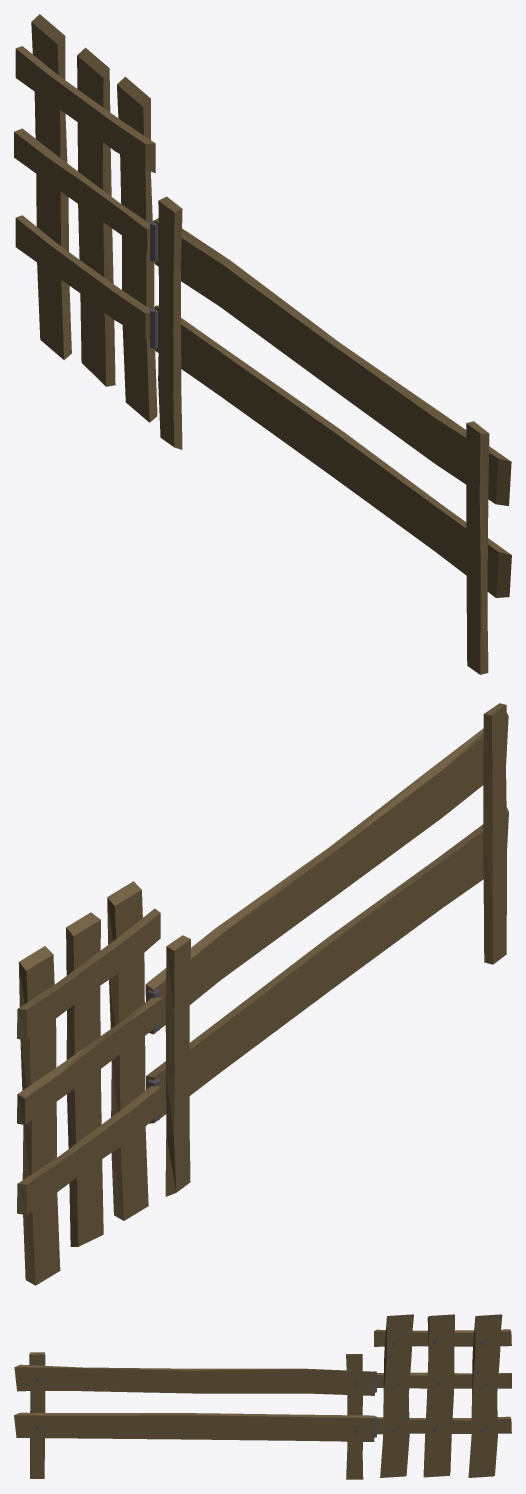
The model's file is Zaun mit Tür.fbx.
The picture shows the model from 3 angles, top to bottom: view 1: azimuth 30°, elevation 25°; view 2: azimuth 150°, elevation 25°; view 3: azimuth 270°, elevation 25°; orthographic projection. The views are drawn at different scales.
Visible parts, largest first — view 1: Zylinder; view 2: Zylinder; view 3: Zylinder.
Boxes of the visible parts, x1=… form: Zylinder: x1=14, y1=14, x2=511, y2=674; Zylinder: x1=17, y1=703, x2=508, y2=1285; Zylinder: x1=14, y1=1314, x2=511, y2=1479.
Bounding box in the file's own units: 13.53 × 234 × 632.
